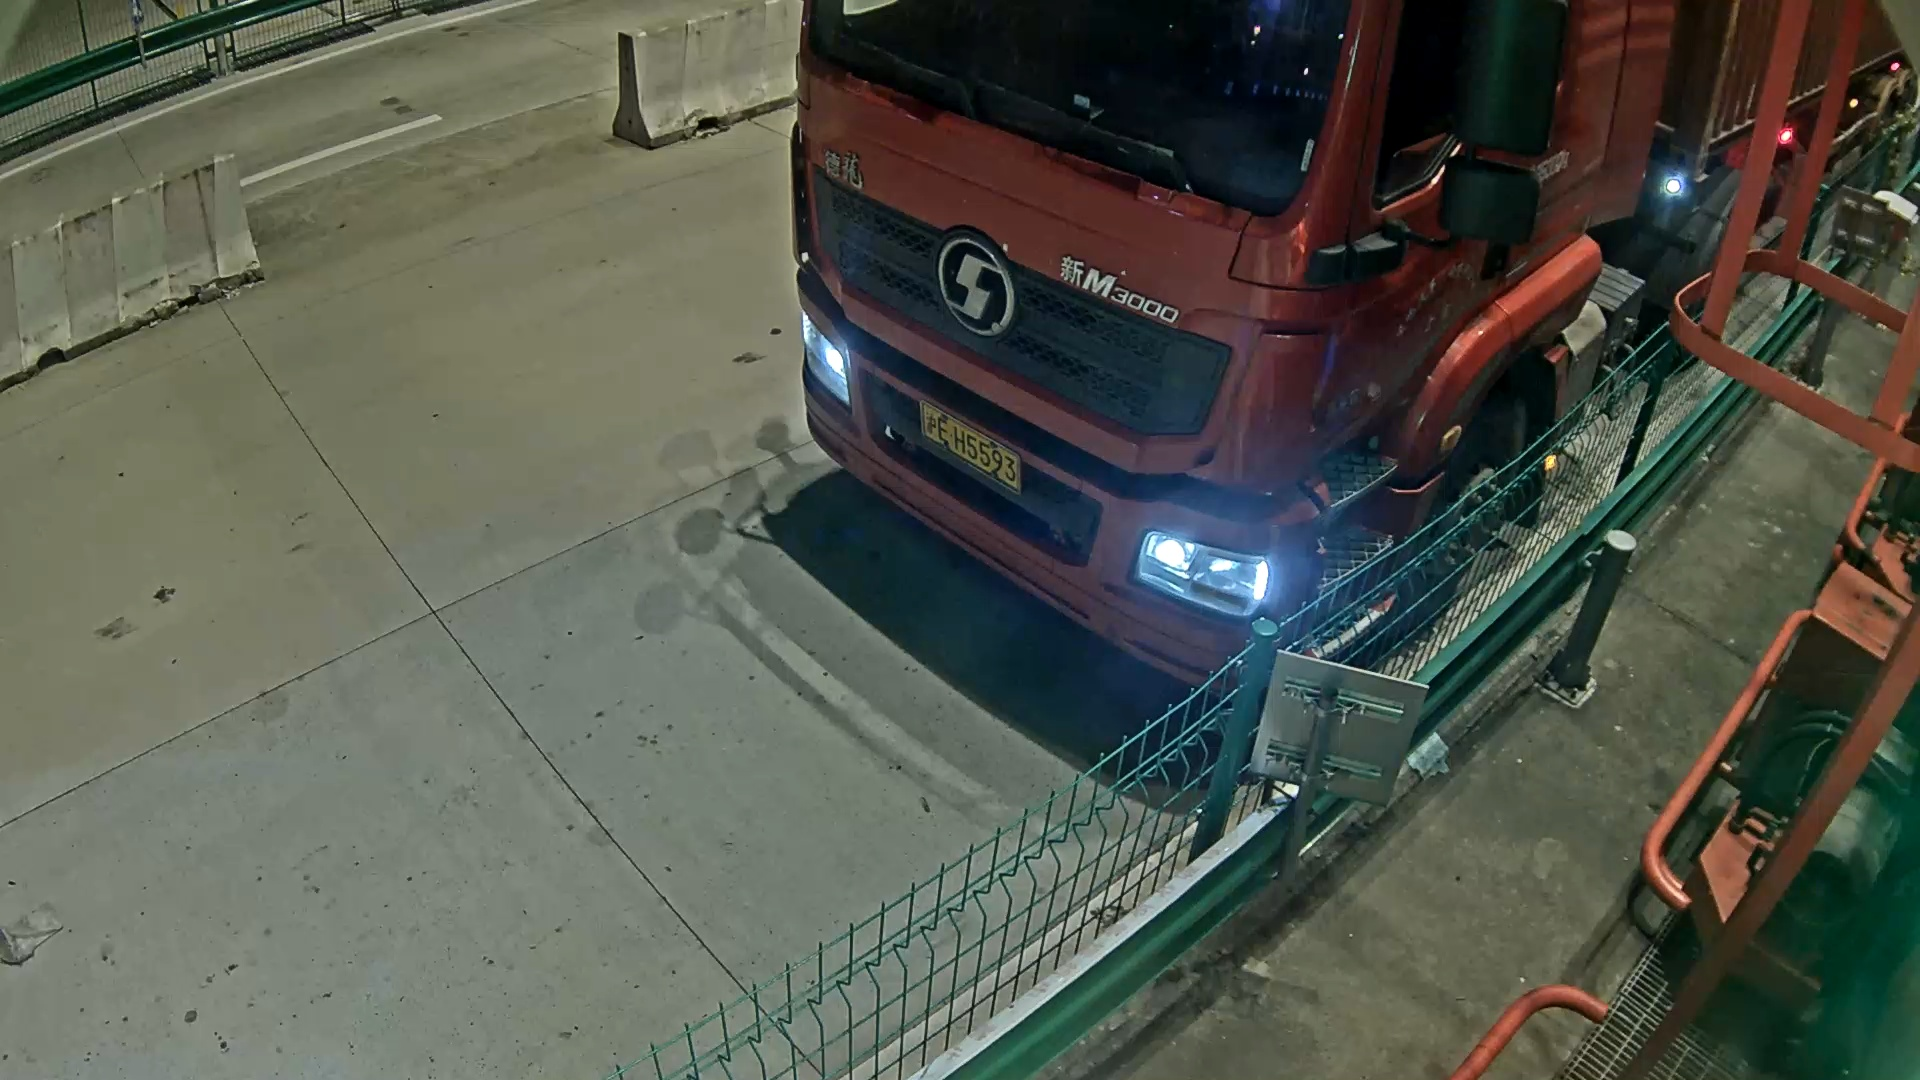head: (798, 1, 1684, 700)
plate: (919, 405, 1022, 492)
